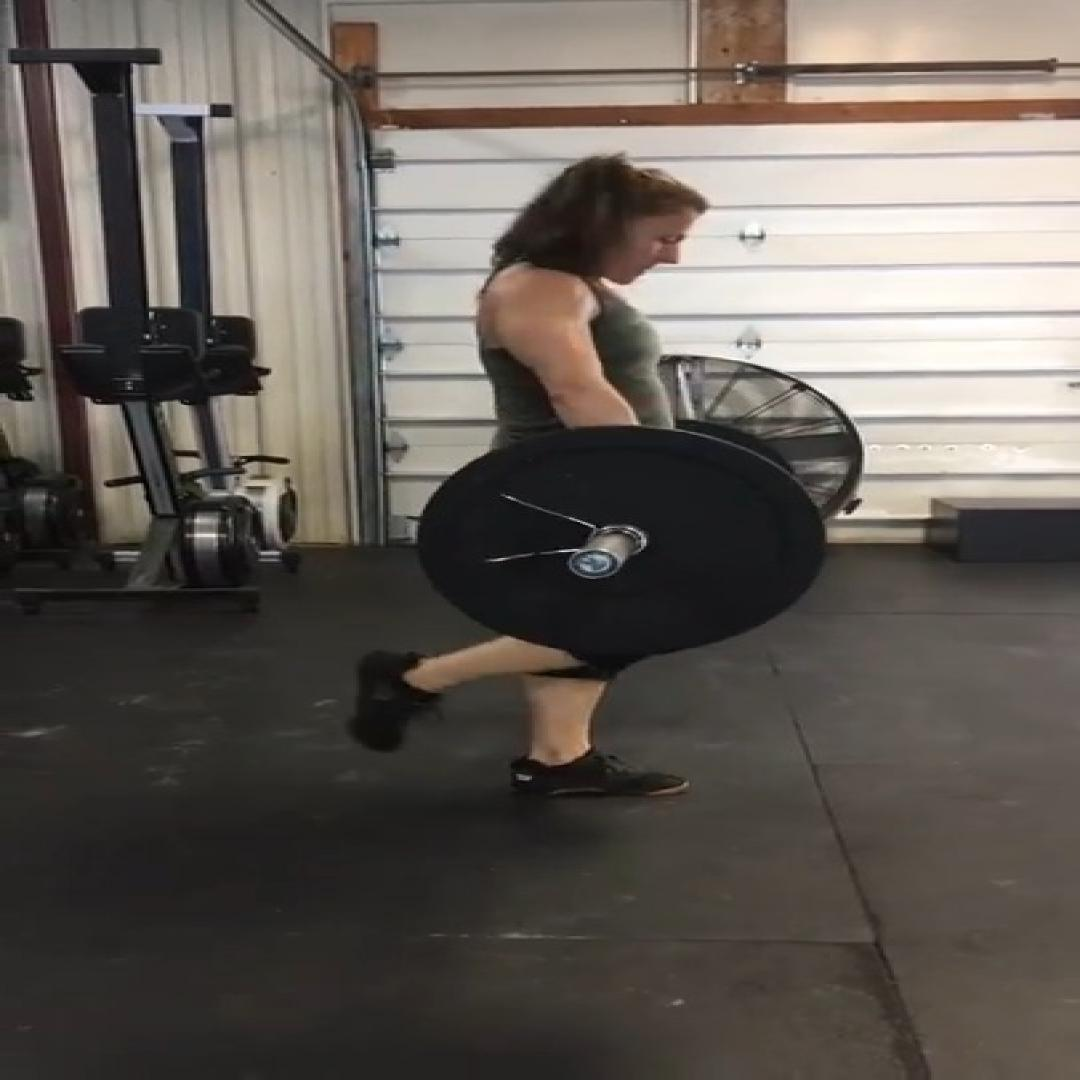Bar: (566, 548, 622, 580)
Barbell: (418, 426, 824, 656)
